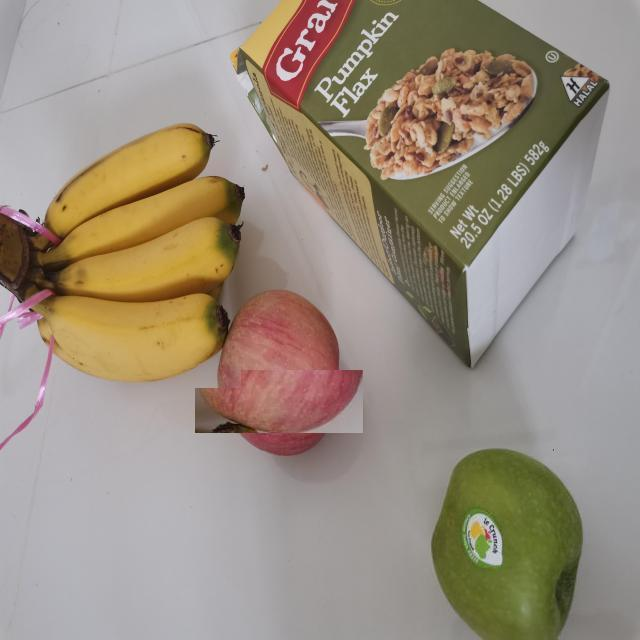Apple: (430, 449, 587, 639), (196, 310, 363, 433)
Banana: (0, 124, 241, 388)
Cerealbox: (227, 5, 612, 370)
